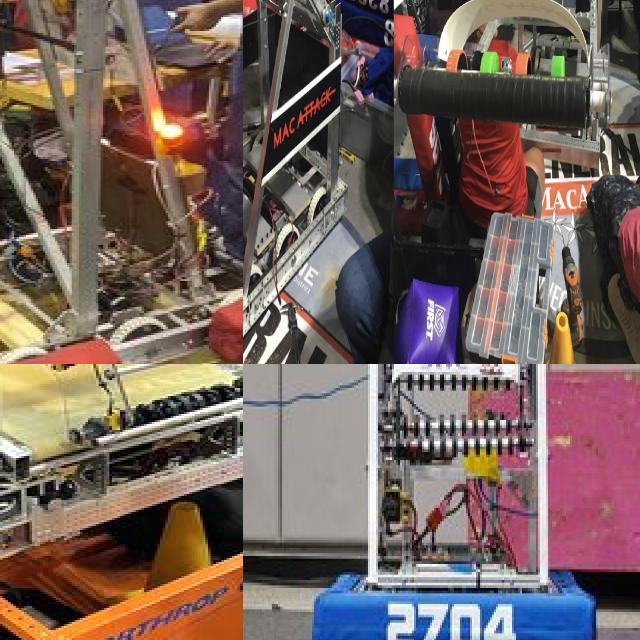FRC-Robots: (291, 364, 640, 640), (0, 0, 243, 364), (243, 0, 385, 344), (397, 0, 634, 195), (0, 364, 243, 524)
